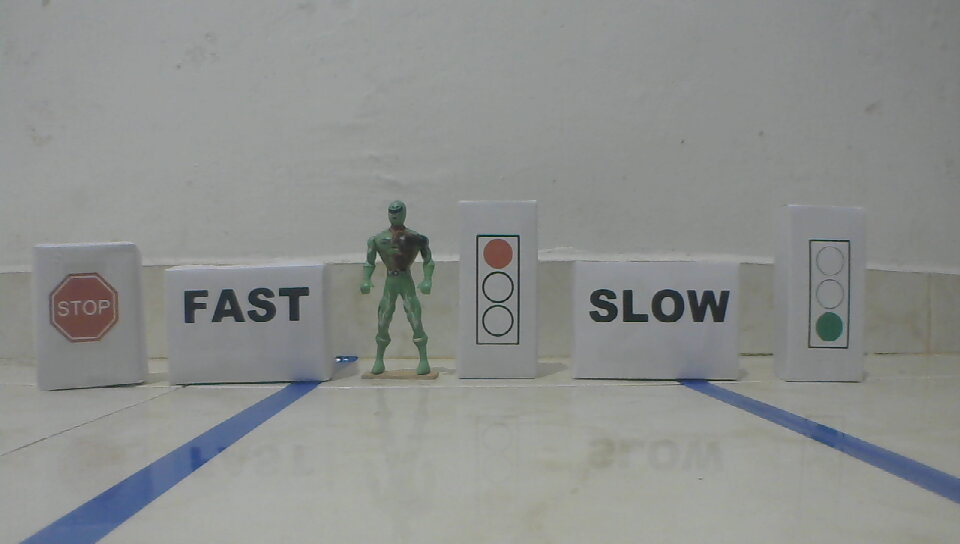Fast: (180, 285, 312, 326)
Green Traffic Light: (805, 237, 852, 353)
Person: (356, 197, 438, 380)
Red Traffic Light: (475, 232, 522, 350)
Slow: (583, 287, 731, 327)
Stop Sign: (47, 270, 121, 343)
